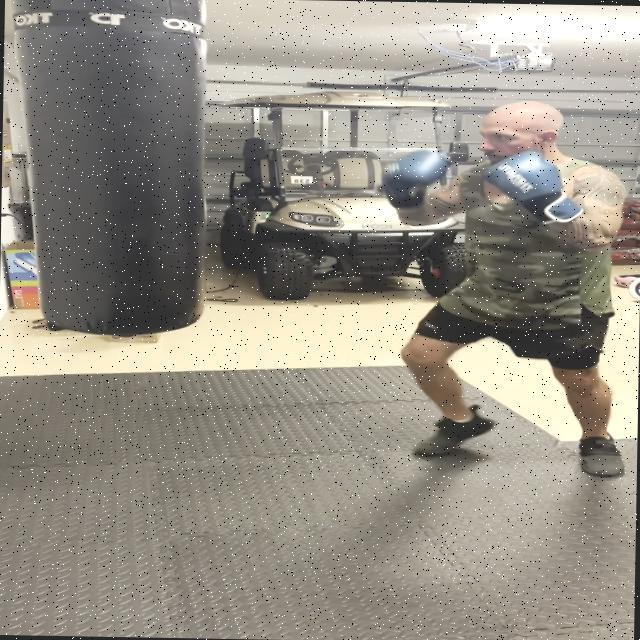bag: (30, 0, 214, 344)
no punch: (372, 92, 634, 258)
